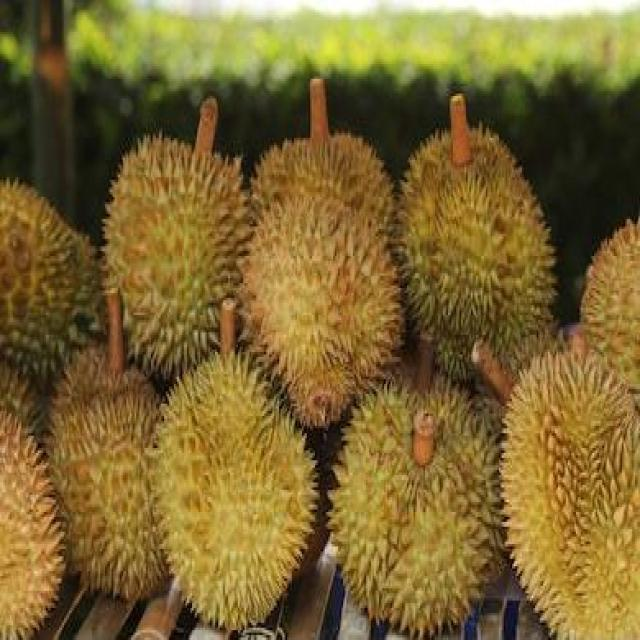mature: (244, 202, 402, 427), (51, 349, 168, 599)
